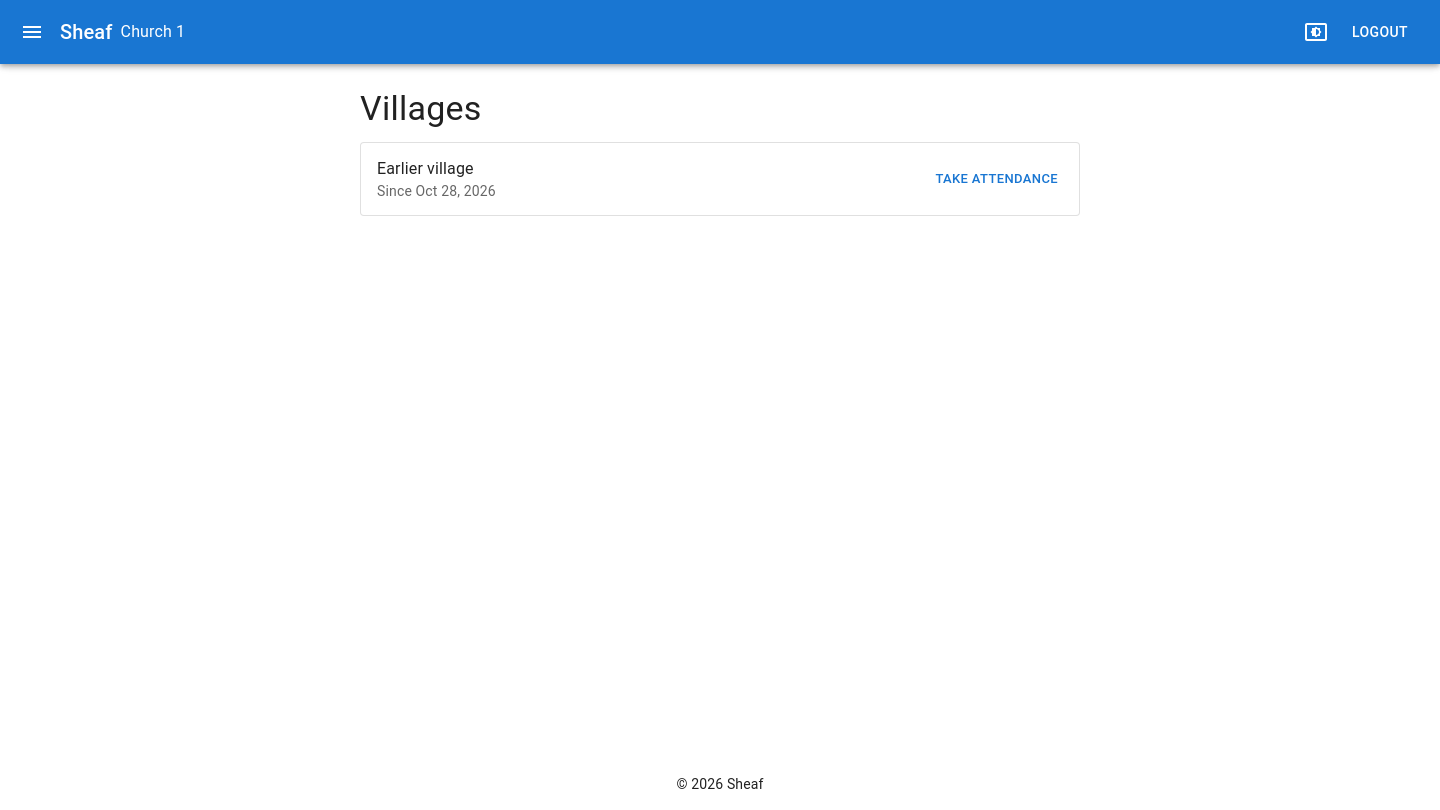
it: Groups › Groups_AfterLogoutAndLoginAgain_ShowsNothingFromTheEarlierSession
Expected: the text "Earlier village" is shown, [377,159,474,178]
Click the button "Logout".
click(1380, 32)  # box [1344,14,1416,50]
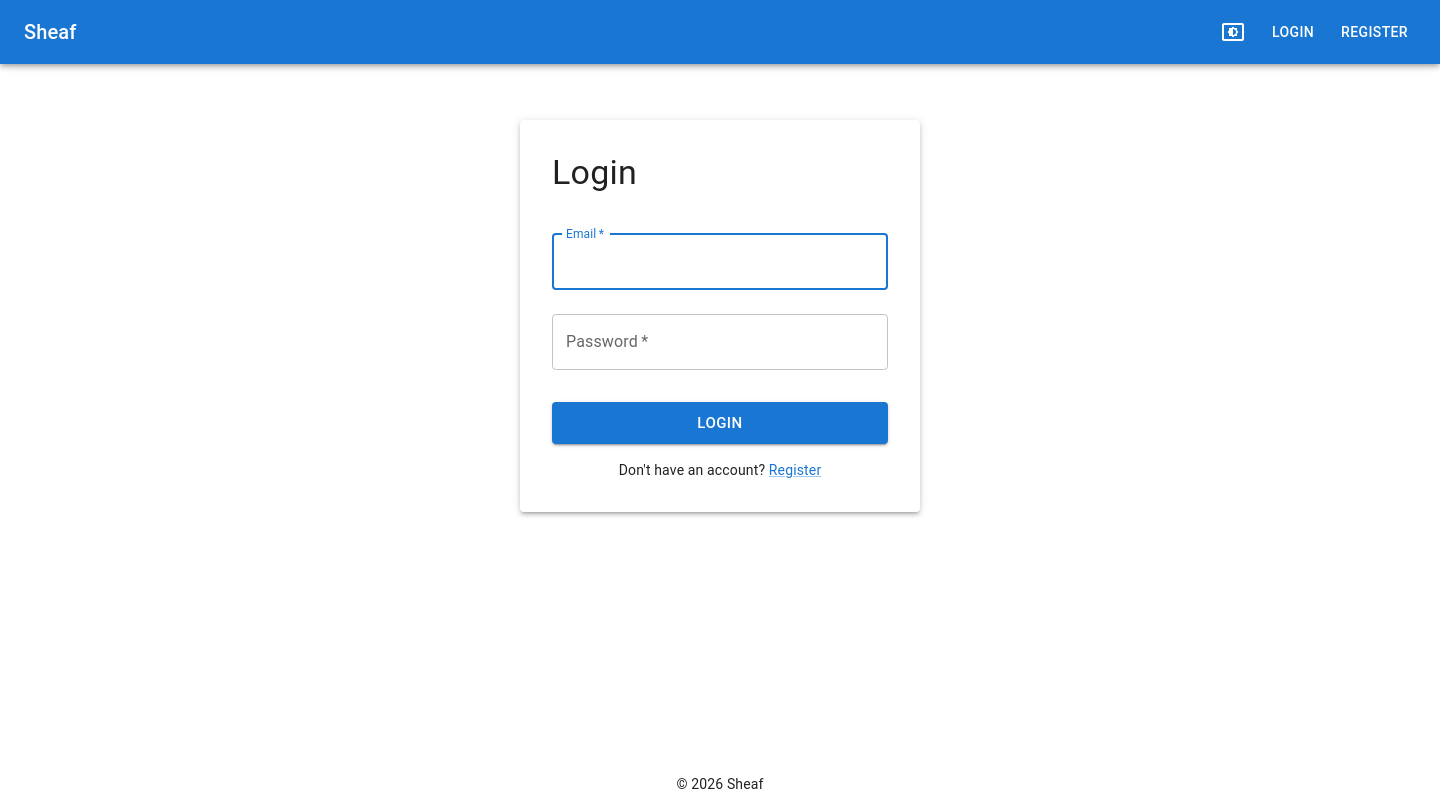
Type "leader@example.com" into the field labelled "Email *".
click(720, 262); type("leader@example.com")  # box [552,234,888,290]
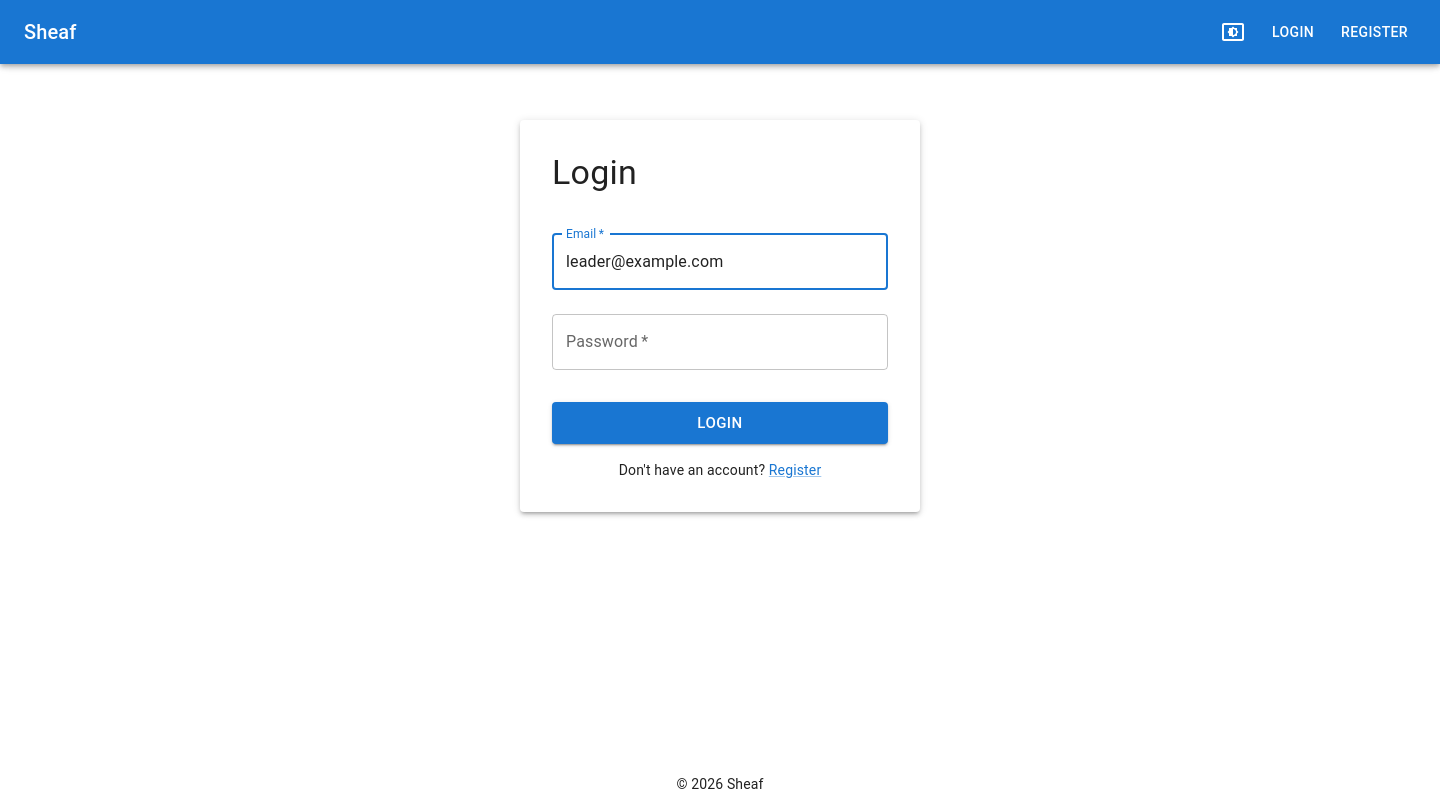
Type "correct horse battery staple" into the password field labelled "Password *".
click(720, 342); type("correct horse battery staple")  # box [552,314,888,370]
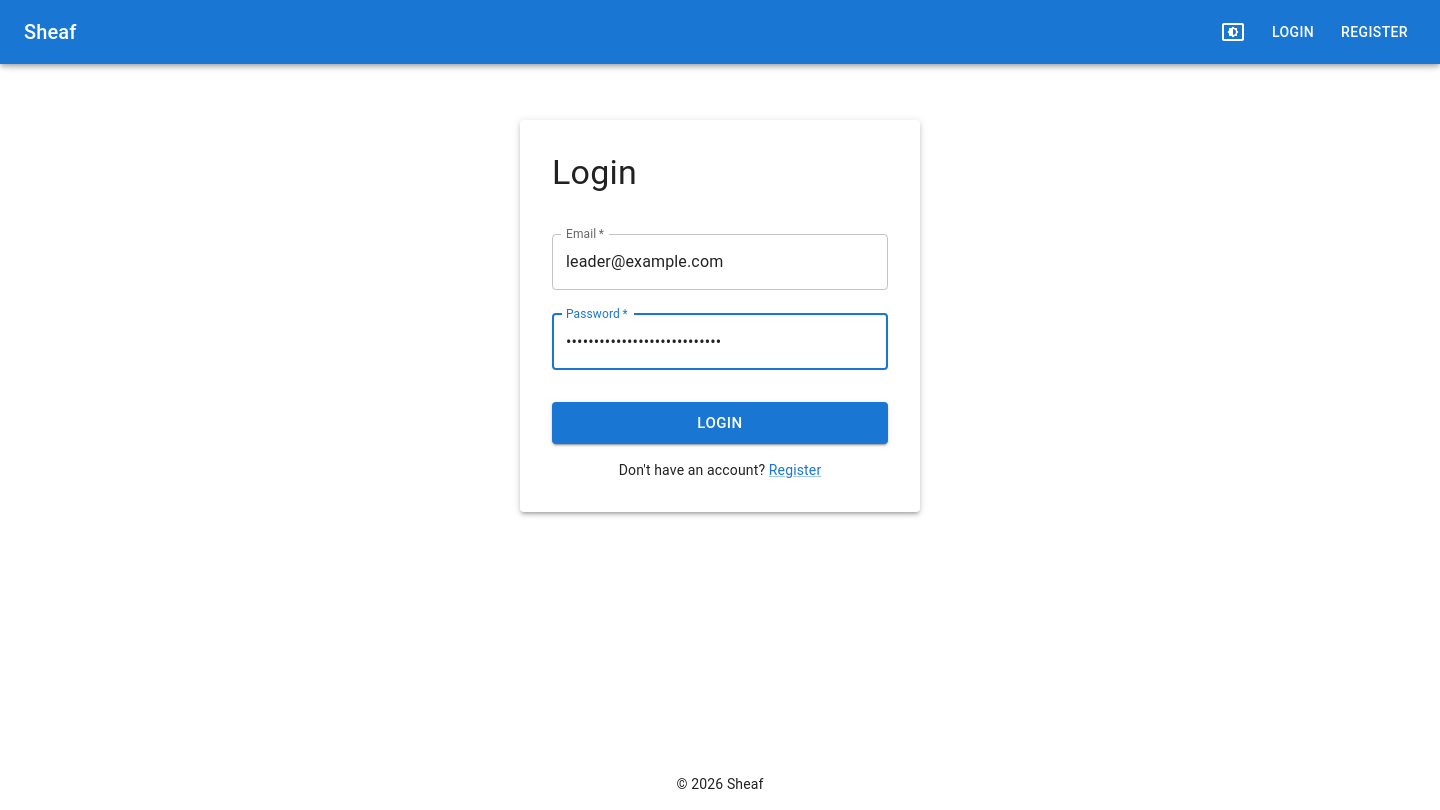
Click the button "Login".
click(720, 423)  # box [552,402,888,444]
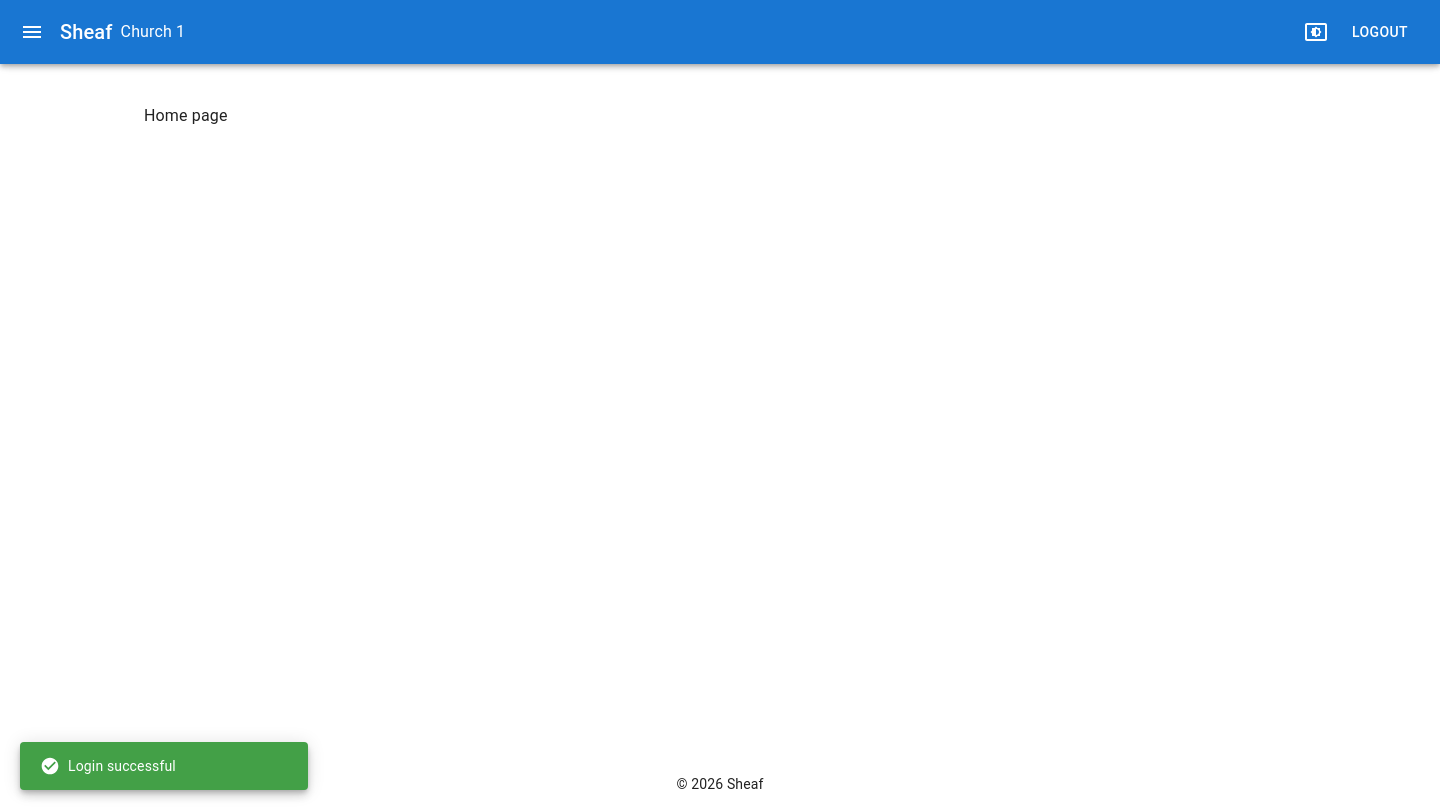
Click the button named "Open navigation".
click(32, 32)  # box [12,12,52,52]
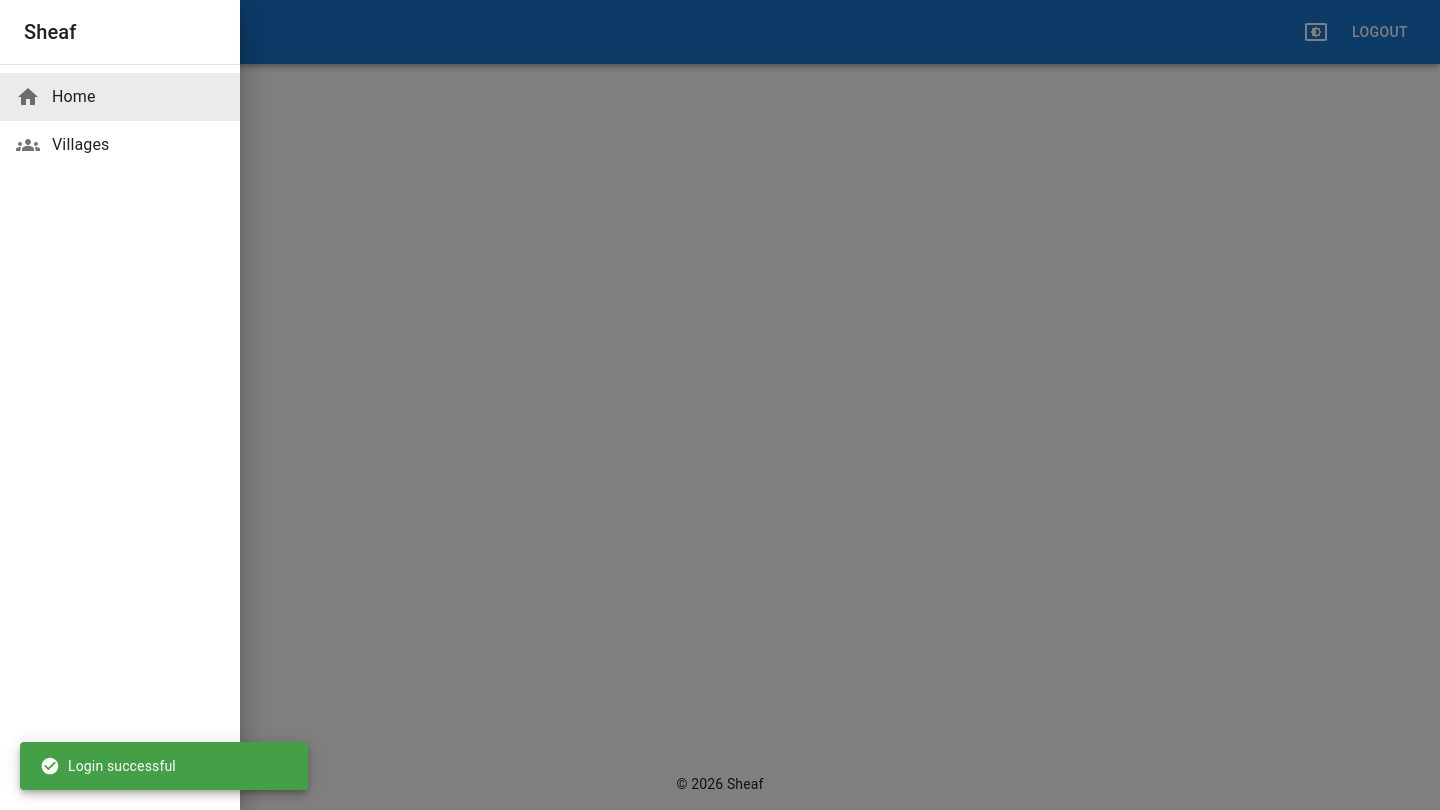
Click the link "Villages".
click(63, 145)  # box [16,133,110,157]
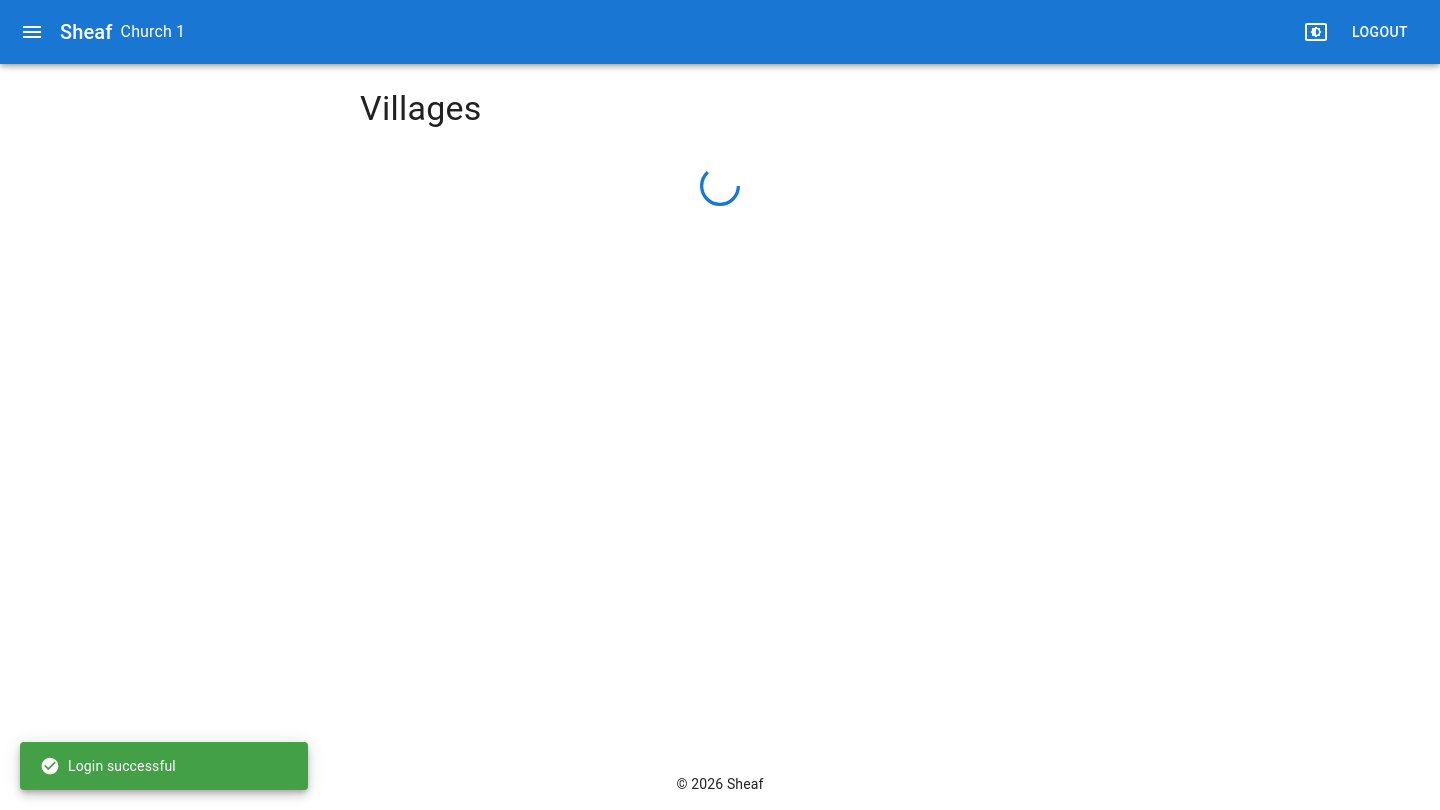
Expected: the text "Earlier village" is not shown
Result: the progress indicator named "Loading" is shown at [700,166,740,206]
